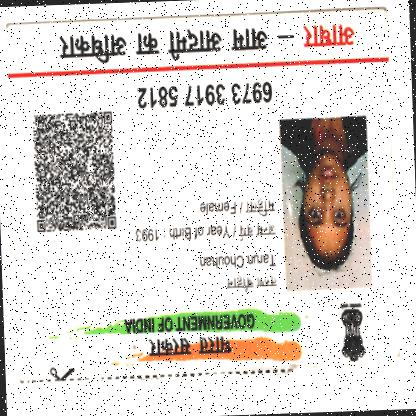aadhaar_card: (6, 8, 404, 398)
